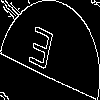E: (25, 25, 55, 79)
